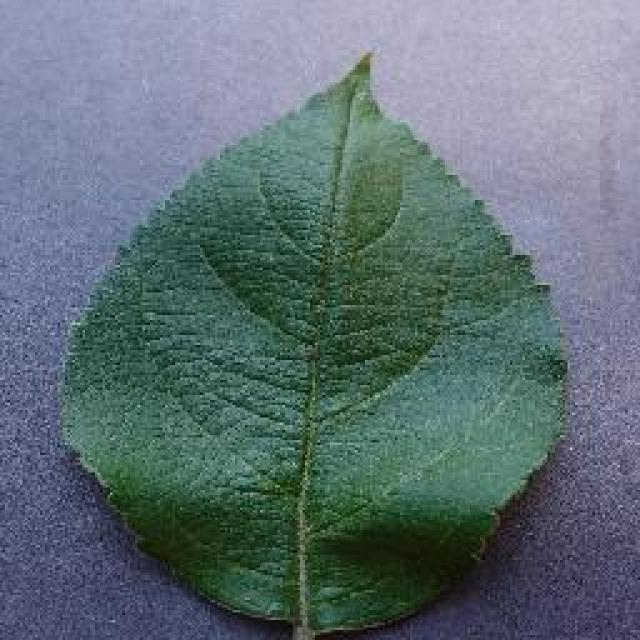apple scab disease: (55, 48, 570, 638)
